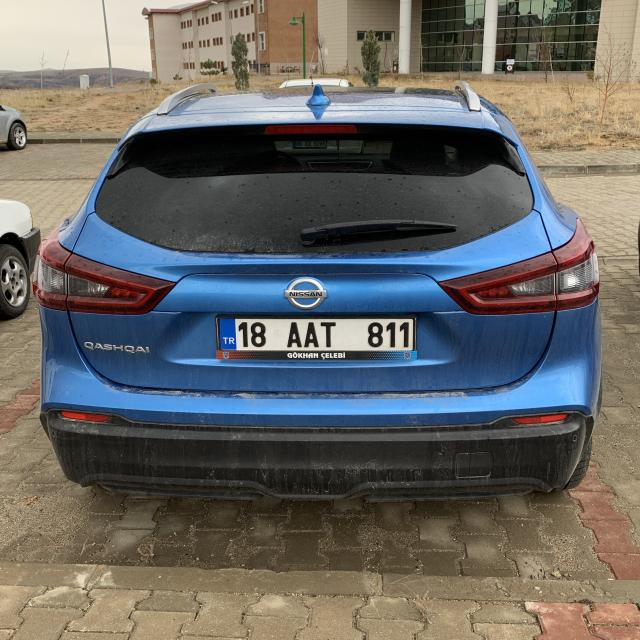license_plate: (216, 316, 415, 350)
